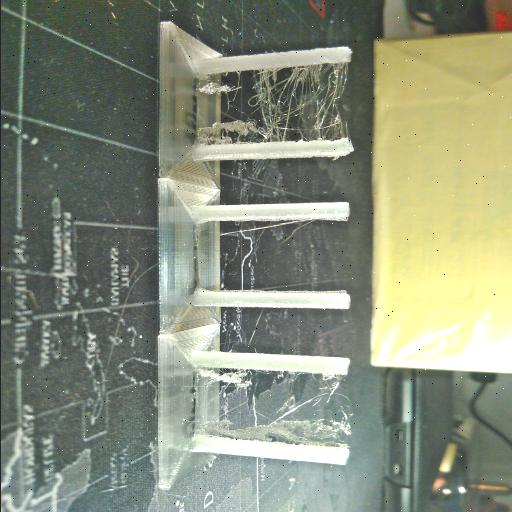stringing: (194, 68, 350, 142), (187, 408, 350, 449), (187, 370, 349, 402)
